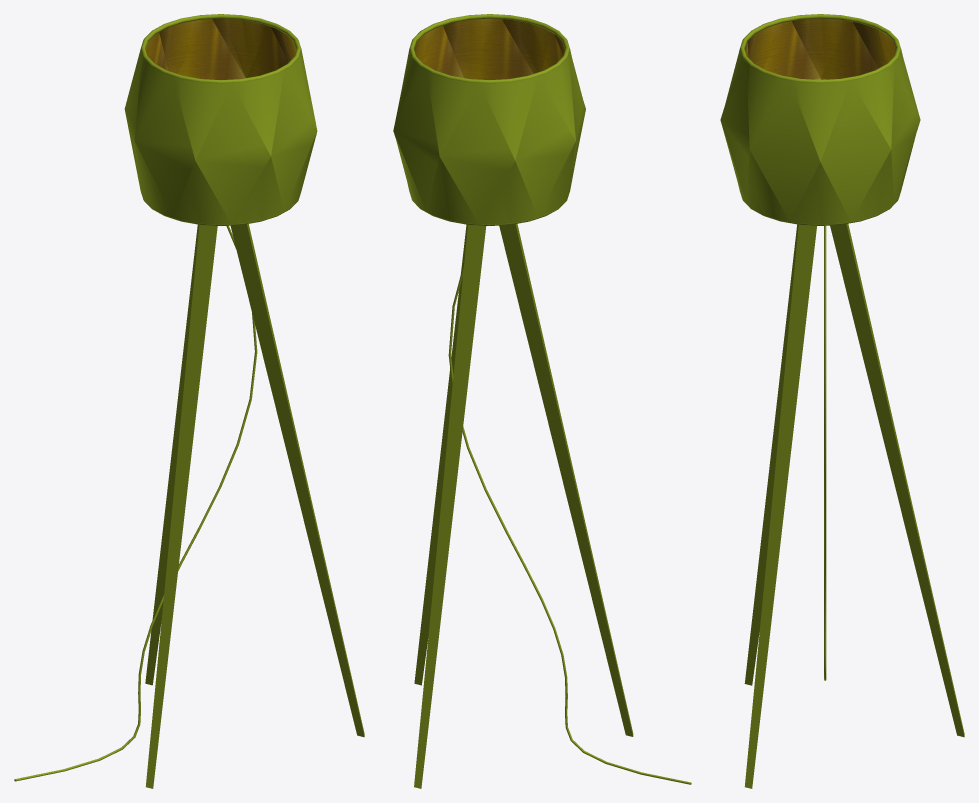
Rendered from floor_lamp_3.glb.
The picture shows the model from 3 angles, left to right: view 1: azimuth 30°, elevation 25°; view 2: azimuth 150°, elevation 25°; view 3: azimuth 270°, elevation 25°; orthographic projection.
Parts seen in each view (by area): view 1: root; view 2: root; view 3: root.
Boxes of the visible parts, x1,y1,x2,y2 form: root: (14, 14, 364, 788); root: (393, 14, 691, 788); root: (720, 14, 964, 788).
Size of the model in its own units: 0.7238 by 1.52 by 0.4885.
Materials: 4 (1 with a texture image).
